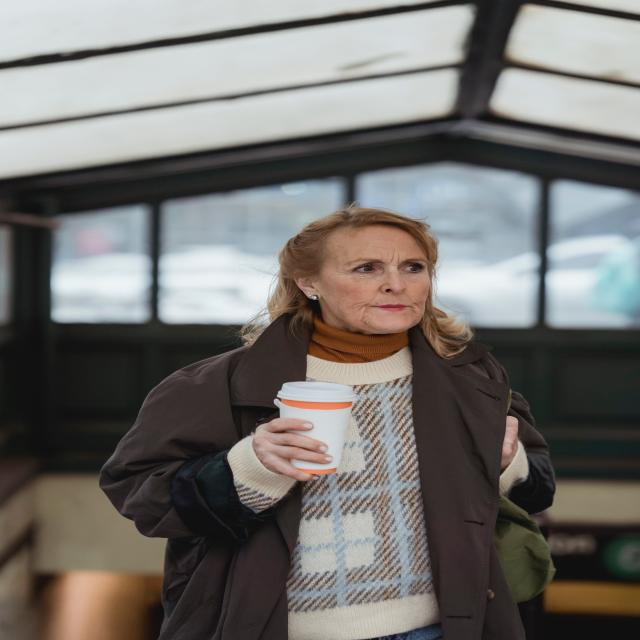cup: (273, 378, 358, 472)
